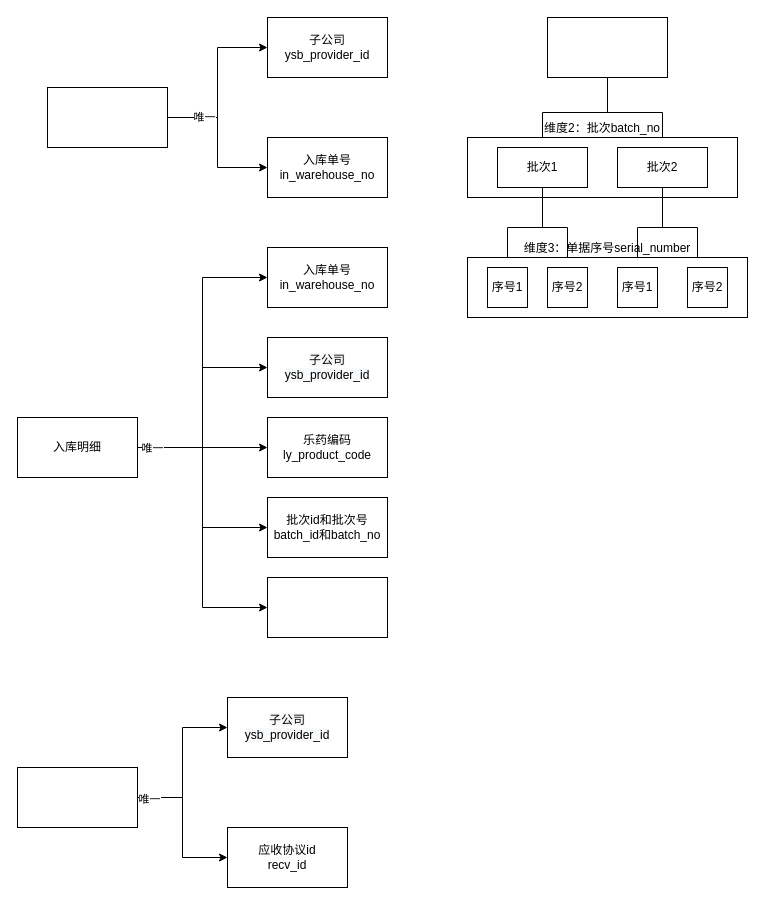
This 765x905 diagram has some shape labels left out. The shapes that lost their labels are listed below. From the top down, each one's centre as x and y in pixels, then its label:
At (607,47): "维度1：in_warehouse_no".
At (107,117): "入库单".
At (327,607): "单据序号serial_number".
At (77,797): "返利协议".
